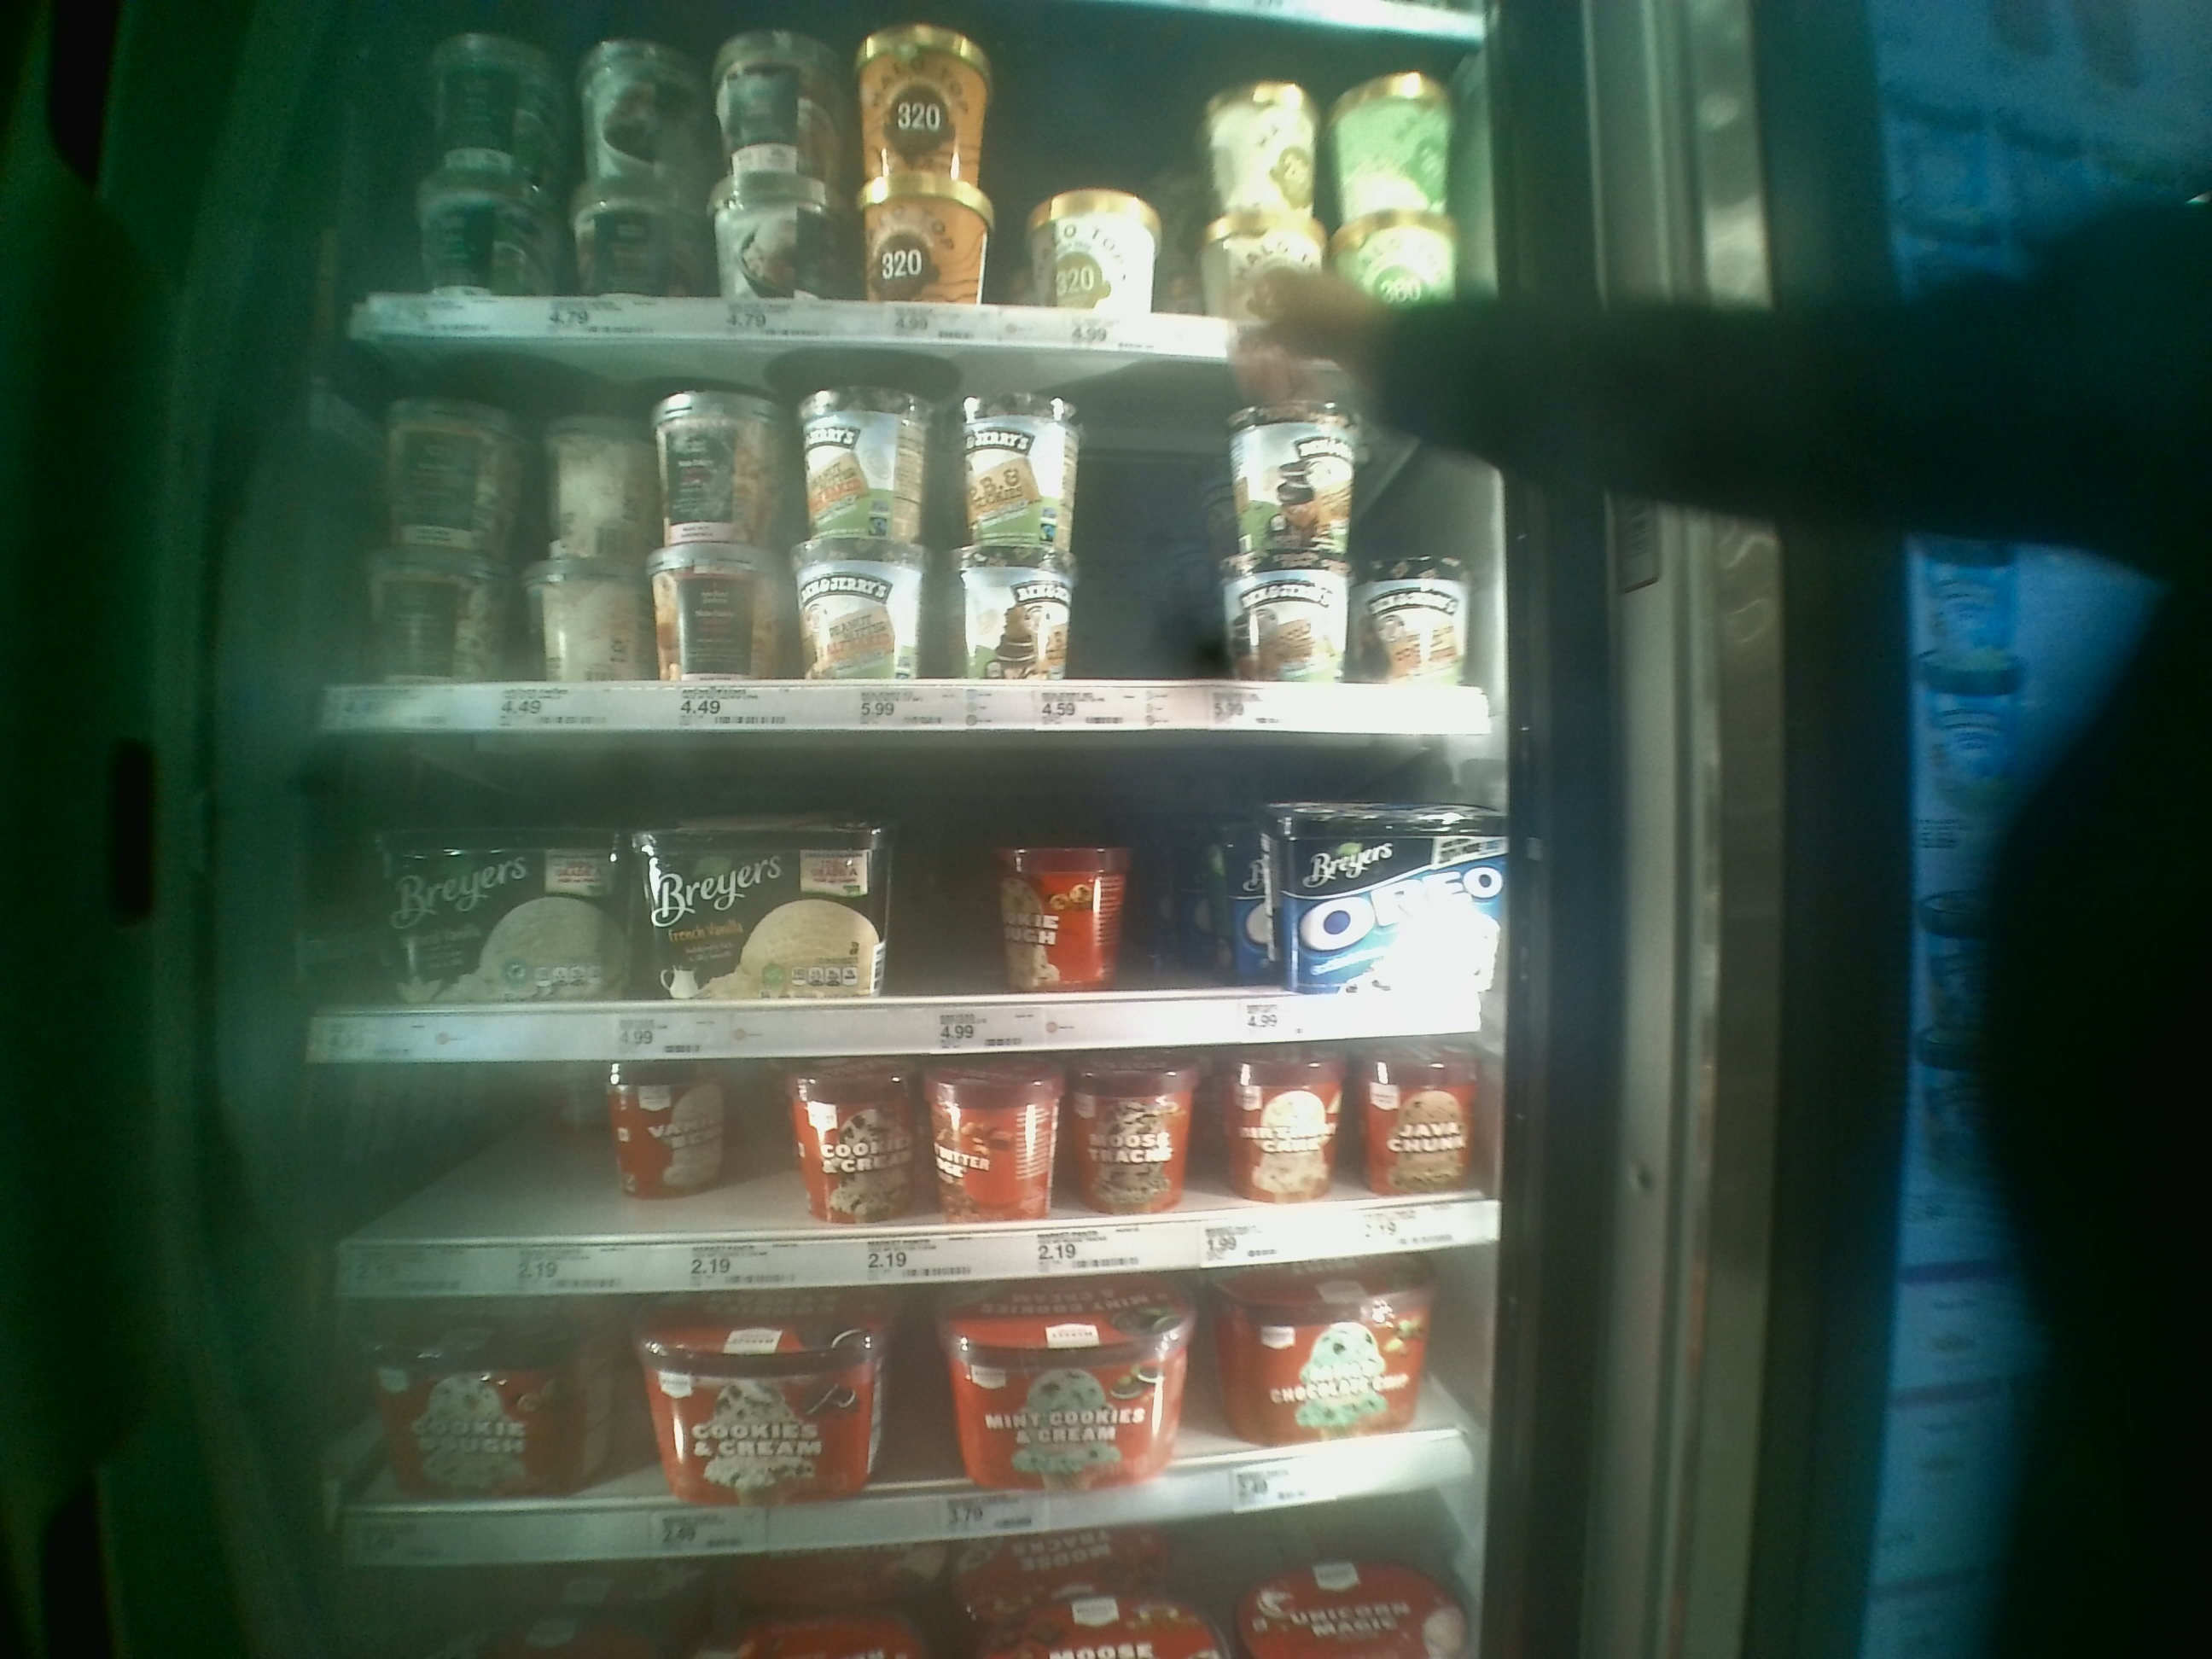ice-cream-shelf: (322, 338, 1343, 734), (310, 732, 1486, 1042), (331, 1290, 1487, 1560), (317, 1060, 1494, 1290)
